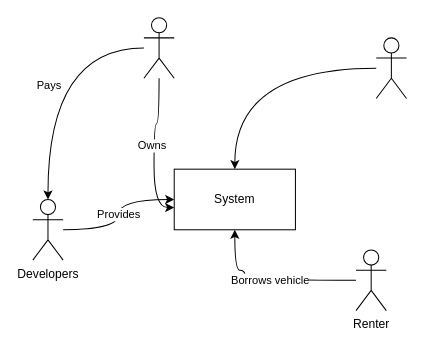
Some shapes in this 446 by 349 pixel diagram are drawn without their labels. The shapes that lost their labels are listed below. From the top down, each one's centre as x and y in pixels, then its label:
At point 158,47: "Company owner".
At point 391,67: "Vehicle owner".
